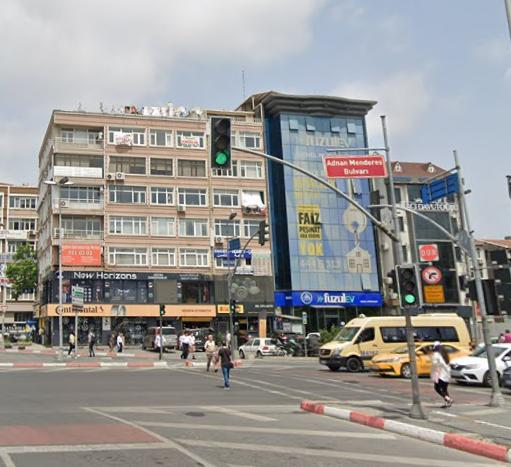greenlight: (210, 115, 231, 172), (397, 261, 420, 306)
rightturnsareforbidden: (423, 266, 441, 284)
stop: (420, 245, 438, 261)
